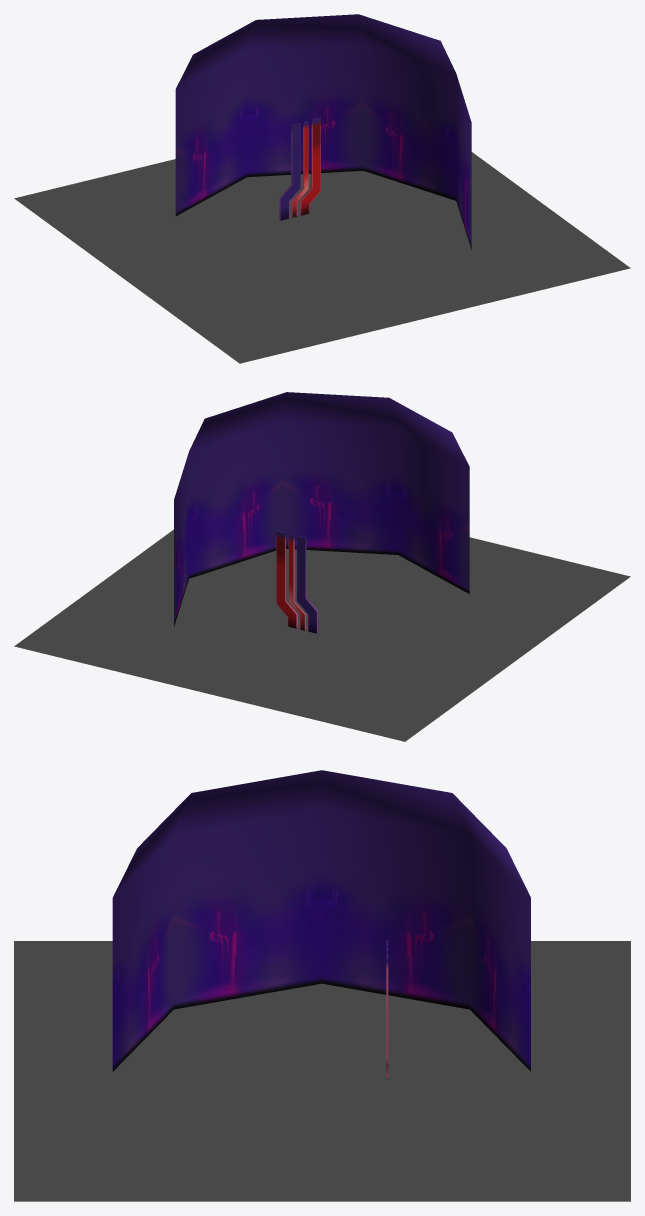
The picture shows the model from 3 angles, top to bottom: view 1: azimuth 30°, elevation 25°; view 2: azimuth 150°, elevation 25°; view 3: azimuth 270°, elevation 25°; orthographic projection. The views are drawn at different scales.
Parts seen in each view (by area): view 1: pPlane1, pCylinder1, pCube4; view 2: pPlane1, pCylinder1, pCube4; view 3: pPlane1, pCylinder1.
Boxes of the visible parts, x1,y1,x2,y2 form: pPlane1: (14, 152, 630, 363); pCylinder1: (175, 14, 471, 249); pCube4: (279, 118, 320, 220); pPlane1: (14, 529, 630, 741); pCylinder1: (174, 392, 469, 626); pCube4: (276, 530, 317, 633); pPlane1: (14, 941, 630, 1201); pCylinder1: (112, 770, 530, 1071).
Size of the model in its own units: 26.27 by 11.57 by 26.27.
Materials: 3 (2 with a texture image).
